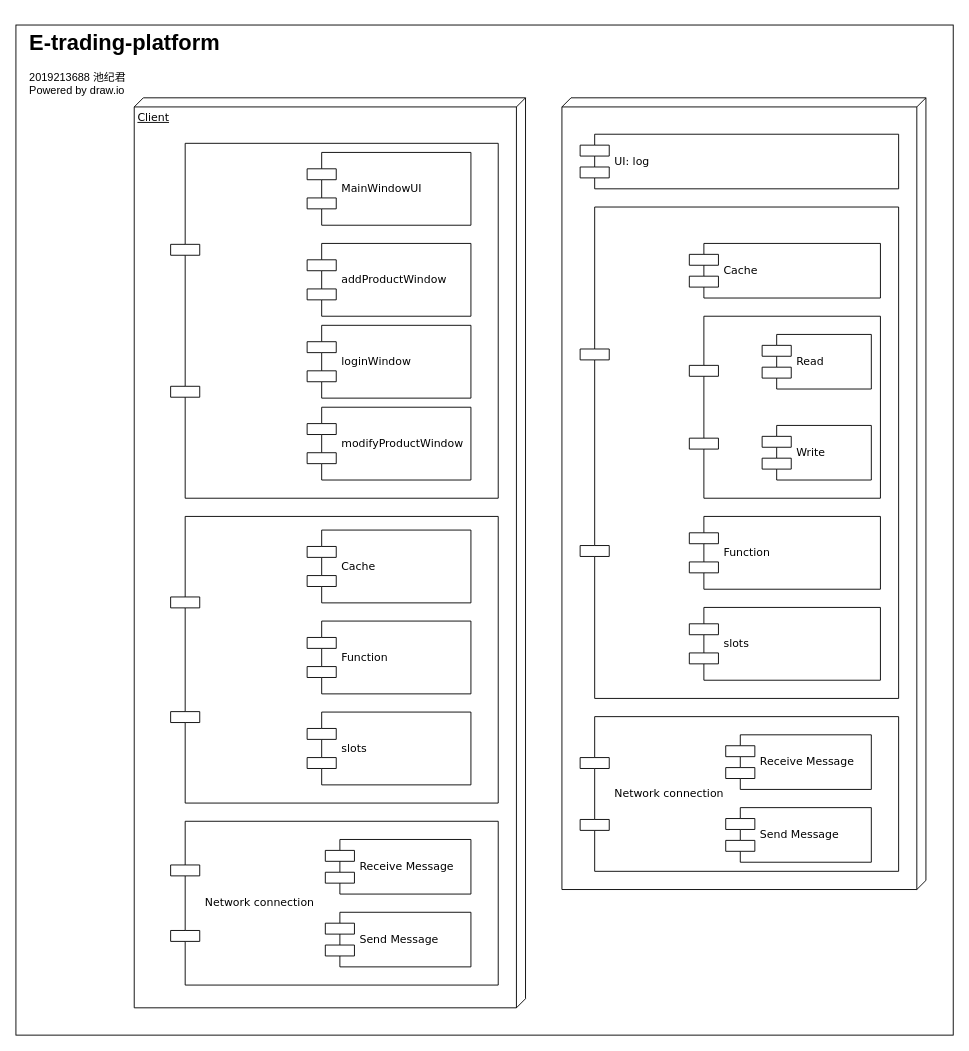
This 969x1051 diagram has some shape labels left out. The shapes that lost their labels are listed below. From the top down, each one's box as (x1, y1, x2, y2) in pixels, then its label:
(170, 142, 498, 498): UI
(688, 315, 880, 498): Database
(579, 206, 899, 698): Backend controller
(561, 97, 926, 890): Server
(170, 516, 498, 803): Client Controller
